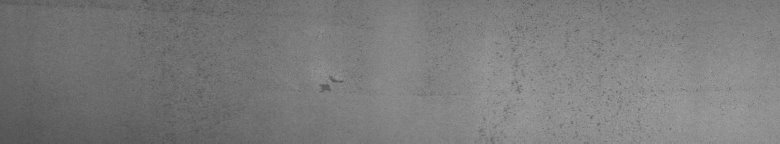ib: (479, 27, 656, 136)
